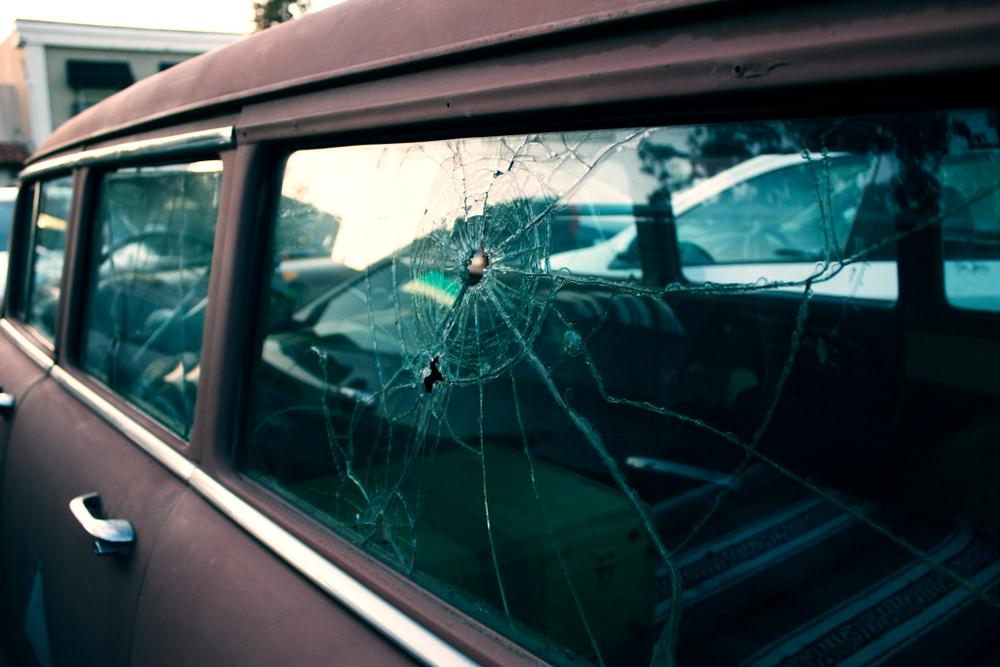glass shatter: (236, 102, 1000, 667)
